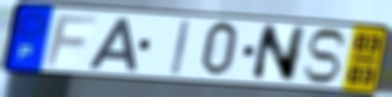0: (198, 19, 242, 81)
A: (86, 16, 139, 73)
F: (43, 13, 100, 68)
I: (169, 18, 192, 77)
N: (248, 23, 309, 84)
S: (300, 27, 350, 86)
